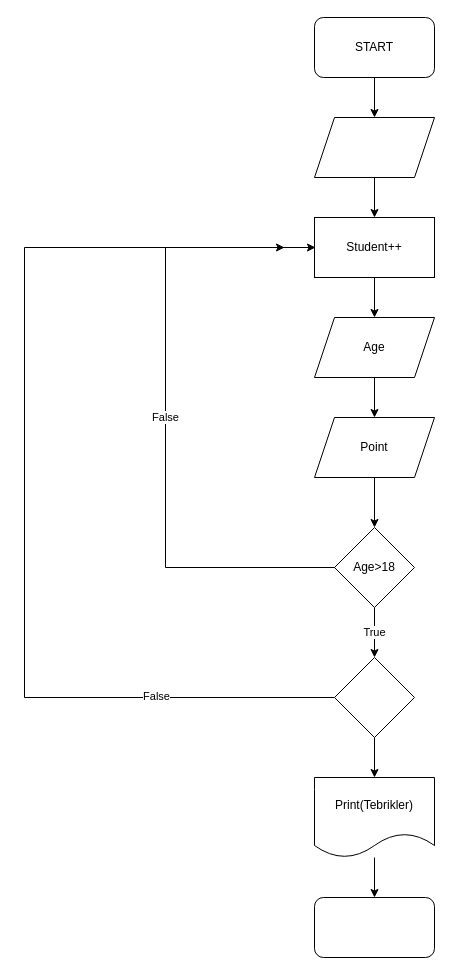
This 452x975 diagram has some shape labels left out. Here are the shapes that lost their labels. From the top down, the centre of each, then its label:
At [374,147]: "Student".
At [374,697]: "Point>50".
At [374,927]: "Stop".
